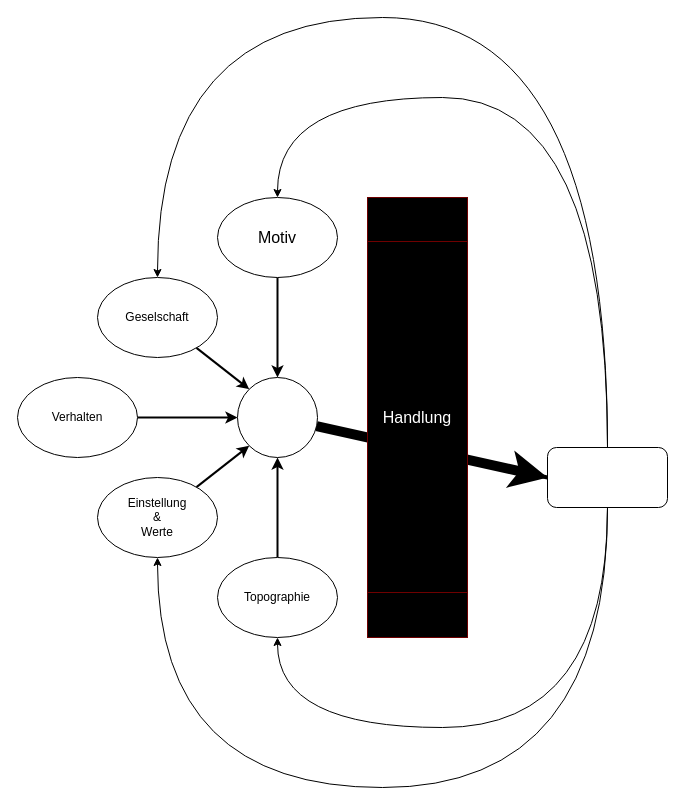
This 685x805 diagram has some shape labels left out. Each missing label, with the centre of its shape:
Handlungs- möglichkeiten: the point at 417,615
Lebens- stiel: the point at 277,417
Raumbezogene Auswirkungen: the point at 607,477
